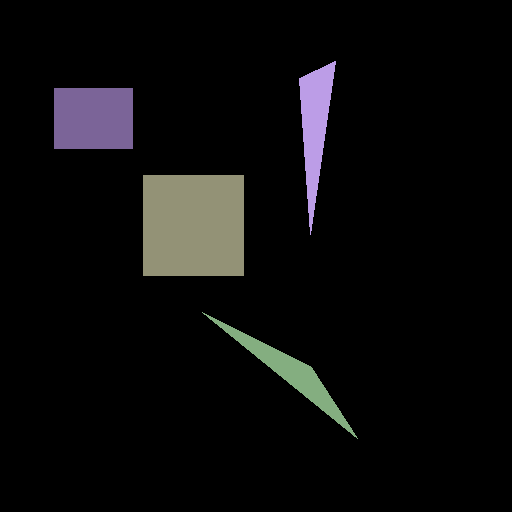rectangle: (54, 88, 132, 148)
square: (143, 175, 243, 275)
triangle: (202, 312, 357, 438), (299, 61, 335, 234)
